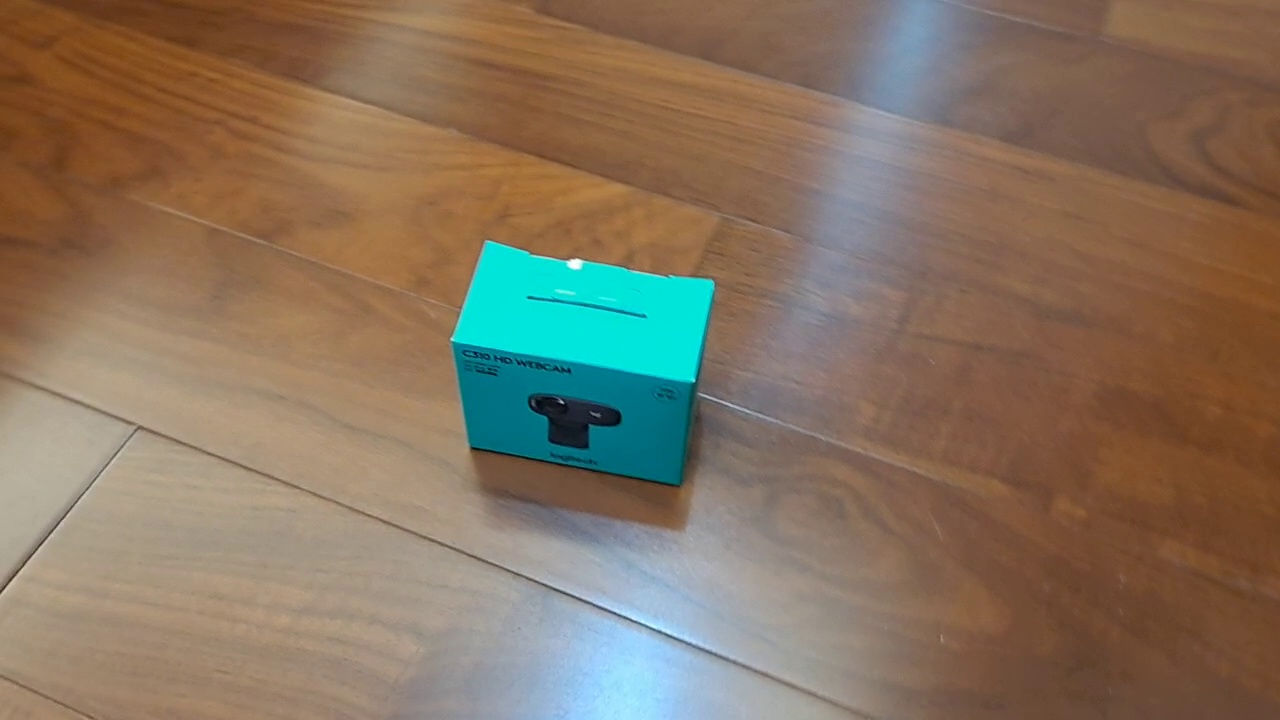webcam: (449, 238, 716, 488)
